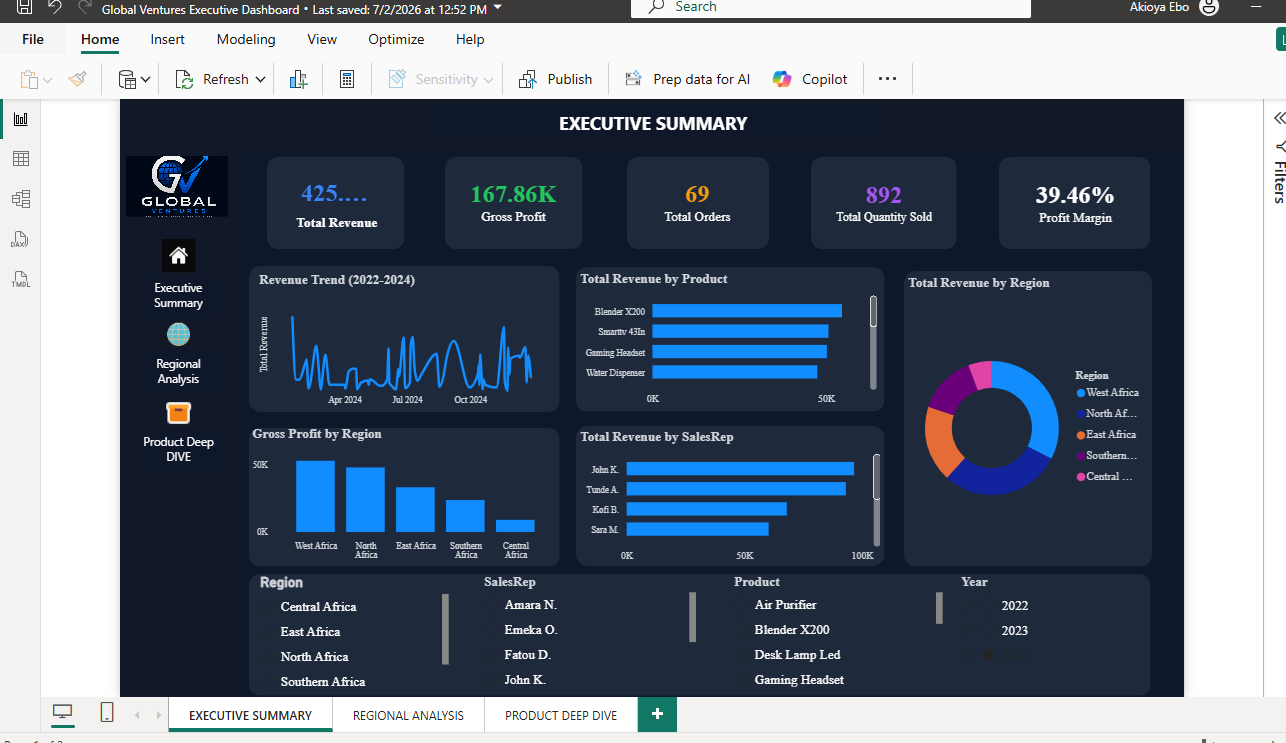

What the dashboard file says about the page in this screenshot:
{"tool":"powerbi","page":{"name":"EXECUTIVE SUMMARY","canvas":[1280,720],"ordinal":0},"visuals":[{"type":"group","id":"g1","title":"Group 1","box":[0,0,1280,720],"z":0,"group":"g2"},{"type":"shape","box":[0,0,140,720],"z":0,"group":"g1"},{"type":"shape","box":[0,0,1280,58.9],"z":1000,"group":"g1"},{"type":"cardVisual","fields":{"Data":["My Measures.Total Revenue"]},"box":[188.9,84.4,144.4,57.8],"z":1000,"group":"g2"},{"type":"textbox","box":[366.7,10,548.9,37.8],"z":2000,"group":"g1"},{"type":"cardVisual","fields":{"Data":["My Measures.Total Orders"]},"box":[609.6,68.3,172.1,113],"z":2000,"group":"g2"},{"type":"cardVisual","fields":{"Data":["My Measures.Gross_Profit_USD"]},"box":[391.5,68.3,165.5,113],"z":3000,"group":"g2"},{"type":"image","box":[7.8,68.9,123.3,73.3],"z":3000,"group":"g1"},{"type":"cardVisual","fields":{"Data":["My Measures.Total Quantity Sold"]},"box":[831.7,69.6,176.1,111.7],"z":4000,"group":"g2"},{"type":"image","box":[50,168.9,40,40],"z":4000,"group":"g1"},{"type":"cardVisual","fields":{"Data":["My Measures.Profit Margin"]},"box":[1059,69.6,182.6,111.7],"z":5000,"group":"g2"},{"type":"textbox","box":[17.8,211.3,104.4,51.1],"z":5000,"group":"g1"},{"type":"textbox","box":[188.9,134.4,144.4,34.4],"z":6000,"group":"g2"},{"type":"image","box":[50,264.9,40,36.7],"z":6000,"group":"g1"},{"type":"textbox","box":[17.8,304,104.4,52.2],"z":8000,"group":"g1"},{"type":"image","box":[50,358.7,40,36.7],"z":9000,"group":"g1"},{"type":"textbox","box":[17.8,397.8,104.4,52.2],"z":10000,"group":"g1"},{"type":"shape","box":[176.7,69.6,165.6,111.1],"z":11000,"group":"g1"},{"type":"lineChart","title":"Revenue Trend (2022-2024)","fields":{"Category":["DimDate.Date.Variation.Date Hierarchy.Year","DimDate.Date.Variation.Date Hierarchy.Quarter","DimDate.Date.Variation.Date Hierarchy.Month","DimDate.Date.Variation.Date Hierarchy.Day"],"Y":["My Measures.Total Revenue"]},"box":[162.9,208.6,357.1,168.6],"z":11000,"group":"g2"},{"type":"shape","box":[391.1,70,165.6,111.1],"z":12000,"group":"g1"},{"type":"clusteredBarChart","fields":{"Category":["DIMPRODUCT.Product"],"Y":["My Measures.Total Revenue"]},"box":[548.6,207.1,367.1,170],"z":12000,"group":"g2"},{"type":"shape","box":[610,69.8,171.1,111.1],"z":13000,"group":"g1"},{"type":"donutChart","fields":{"Category":["DIMREGION.Region"],"Y":["My Measures.Total Revenue"]},"box":[944.3,211.4,298.6,351.4],"z":13000,"group":"g2"},{"type":"shape","box":[832.2,69.7,175.6,111.1],"z":14000,"group":"g1"},{"type":"clusteredColumnChart","title":"Gross Profit by Region","fields":{"Category":["DIMREGION.Region"],"Y":["My Measures.Gross_Profit_USD"]},"box":[154.3,394.3,375.7,168.6],"z":14000,"group":"g2"},{"type":"shape","box":[1058.9,70,182.2,111.1],"z":15000,"group":"g1"},{"type":"clusteredBarChart","fields":{"Category":["DIMSALES.SalesRep"],"Y":["My Measures.Total Revenue"]},"box":[548.6,397.1,371.4,168.6],"z":15000,"group":"g2"},{"type":"shape","box":[155.7,201.4,374.3,175.7],"z":16000,"group":"g1"},{"type":"listSlicer","fields":{"Values":["DIMREGION.Region"]},"box":[163.3,572.2,237.8,142.2],"z":16000,"group":"g2"},{"type":"shape","box":[548.6,202.9,371.4,174.3],"z":17000,"group":"g1"},{"type":"listSlicer","fields":{"Values":["DIMSALES.SalesRep"]},"box":[433.3,572.2,265.6,147.8],"z":17000,"group":"g2"},{"type":"shape","box":[944.3,207.1,298.6,355.7],"z":18000,"group":"g1"},{"type":"shape","box":[155.7,395.7,374.3,167.1],"z":19000,"group":"g1"},{"type":"listSlicer","fields":{"Values":["DIMPRODUCT.Product"]},"box":[734.4,572.2,261.1,144.4],"z":19000,"group":"g2"},{"type":"shape","box":[548.6,394.3,371.4,168.6],"z":20000,"group":"g1"},{"type":"listSlicer","fields":{"Values":["DimDate.Date.Variation.Date Hierarchy.Year","DimDate.Date.Variation.Date Hierarchy.Quarter","DimDate.Date.Variation.Date Hierarchy.Month","DimDate.Date.Variation.Date Hierarchy.Day"]},"box":[1007.8,572.2,225.6,144.4],"z":20000,"group":"g2"},{"type":"group","id":"g2","title":"Group 2","box":[0,0,1280,720],"z":20001},{"type":"shape","box":[155.6,572.2,1085.6,146.7],"z":21000,"group":"g1"}]}

Visuals, with their boxes on the page's 1280x720 design canvas (x1, y1, x2, y2). These are canvas units, not pixel positions in the 1286x743 screenshot, which may show the page scaled, cropped or inside an application window:
"Group 1" group: select_region(0, 0, 1280, 720)
shape: select_region(0, 0, 140, 720)
shape: select_region(0, 0, 1280, 59)
cardVisual - My Measures.Total Revenue: select_region(189, 84, 333, 142)
textbox: select_region(367, 10, 916, 48)
cardVisual - My Measures.Total Orders: select_region(610, 68, 782, 181)
cardVisual - My Measures.Gross_Profit_USD: select_region(392, 68, 557, 181)
image: select_region(8, 69, 131, 142)
cardVisual - My Measures.Total Quantity Sold: select_region(832, 70, 1008, 181)
image: select_region(50, 169, 90, 209)
cardVisual - My Measures.Profit Margin: select_region(1059, 70, 1242, 181)
textbox: select_region(18, 211, 122, 262)
textbox: select_region(189, 134, 333, 169)
image: select_region(50, 265, 90, 302)
textbox: select_region(18, 304, 122, 356)
image: select_region(50, 359, 90, 395)
textbox: select_region(18, 398, 122, 450)
shape: select_region(177, 70, 342, 181)
"Revenue Trend (2022-2024)" lineChart: select_region(163, 209, 520, 377)
shape: select_region(391, 70, 557, 181)
clusteredBarChart - DIMPRODUCT.Product x My Measures.Total Revenue: select_region(549, 207, 916, 377)
shape: select_region(610, 70, 781, 181)
donutChart - DIMREGION.Region x My Measures.Total Revenue: select_region(944, 211, 1243, 563)
shape: select_region(832, 70, 1008, 181)
"Gross Profit by Region" clusteredColumnChart: select_region(154, 394, 530, 563)
shape: select_region(1059, 70, 1241, 181)
clusteredBarChart - DIMSALES.SalesRep x My Measures.Total Revenue: select_region(549, 397, 920, 566)
shape: select_region(156, 201, 530, 377)
listSlicer - DIMREGION.Region: select_region(163, 572, 401, 714)
shape: select_region(549, 203, 920, 377)
listSlicer - DIMSALES.SalesRep: select_region(433, 572, 699, 720)
shape: select_region(944, 207, 1243, 563)
shape: select_region(156, 396, 530, 563)
listSlicer - DIMPRODUCT.Product: select_region(734, 572, 996, 717)
shape: select_region(549, 394, 920, 563)
listSlicer - DimDate.Date.Variation.Date Hierarchy.Year x DimDate.Date.Variation.Date Hierarchy.Quarter: select_region(1008, 572, 1233, 717)
"Group 2" group: select_region(0, 0, 1280, 720)
shape: select_region(156, 572, 1241, 719)
